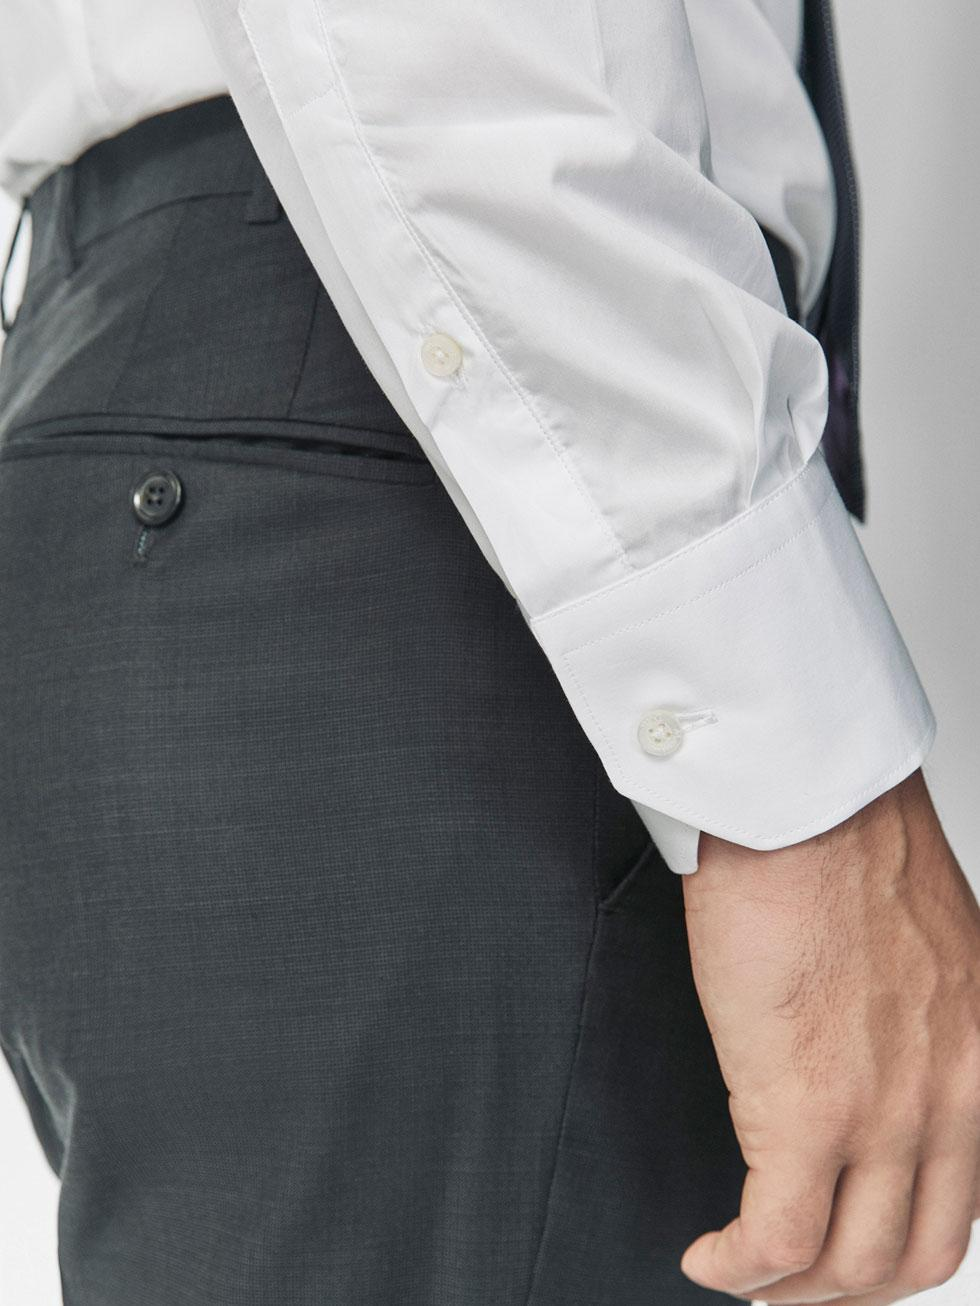teeshirt: (1, 1, 951, 861)
